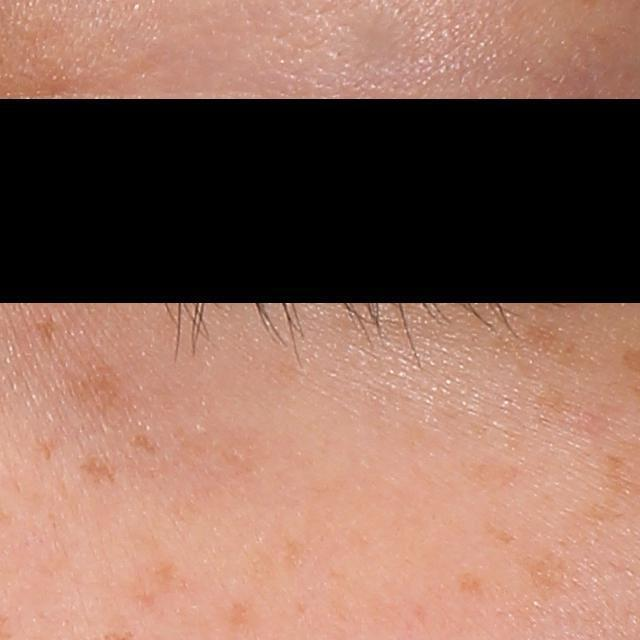melasma: (61, 346, 129, 420), (514, 552, 583, 604), (77, 444, 125, 489), (218, 597, 260, 640), (453, 567, 491, 601), (481, 518, 519, 550), (28, 310, 58, 348), (132, 432, 159, 456)
